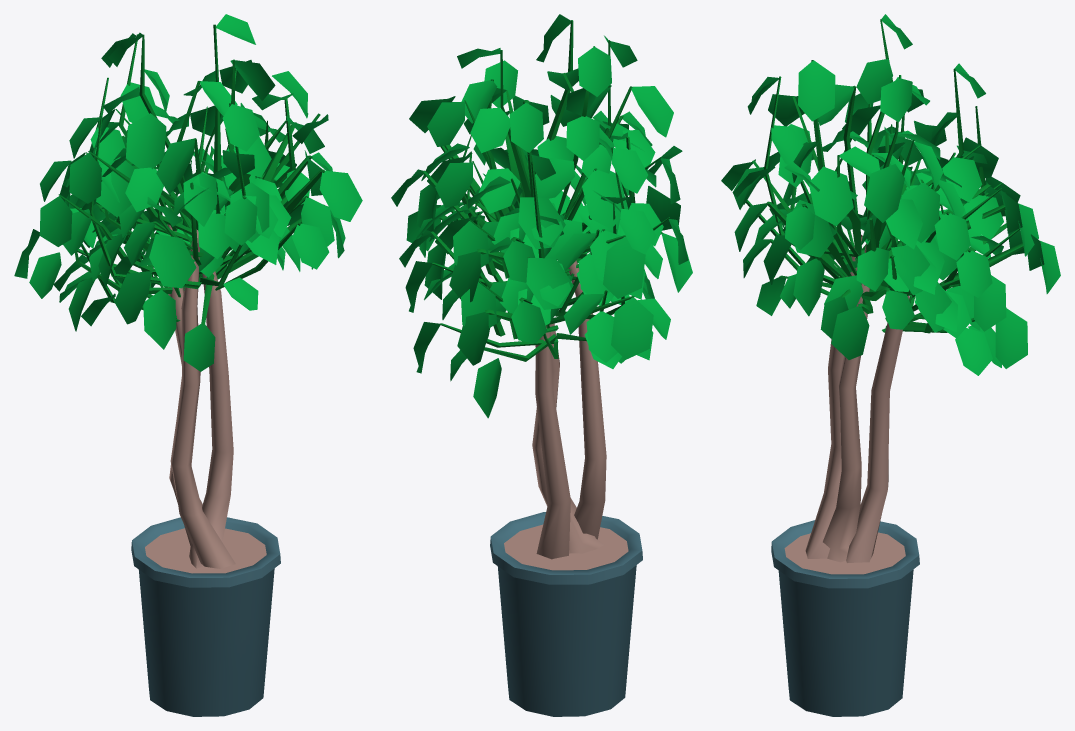
The model's file is flower_027.glb.
The picture shows the model from 3 angles, left to right: view 1: azimuth 30°, elevation 25°; view 2: azimuth 150°, elevation 25°; view 3: azimuth 270°, elevation 25°; orthographic projection. The views are drawn at different scales.
Parts seen in each view (by area): view 1: flower_027; view 2: flower_027; view 3: flower_027.
Part boxes in pixels (x1,y1,x2,y2): flower_027: (14, 14, 362, 716); flower_027: (391, 14, 692, 716); flower_027: (721, 14, 1060, 716).
Size of the model in its own units: 0.7802 by 1.68 by 0.7947.
Materials: 1 (1 with a texture image).
